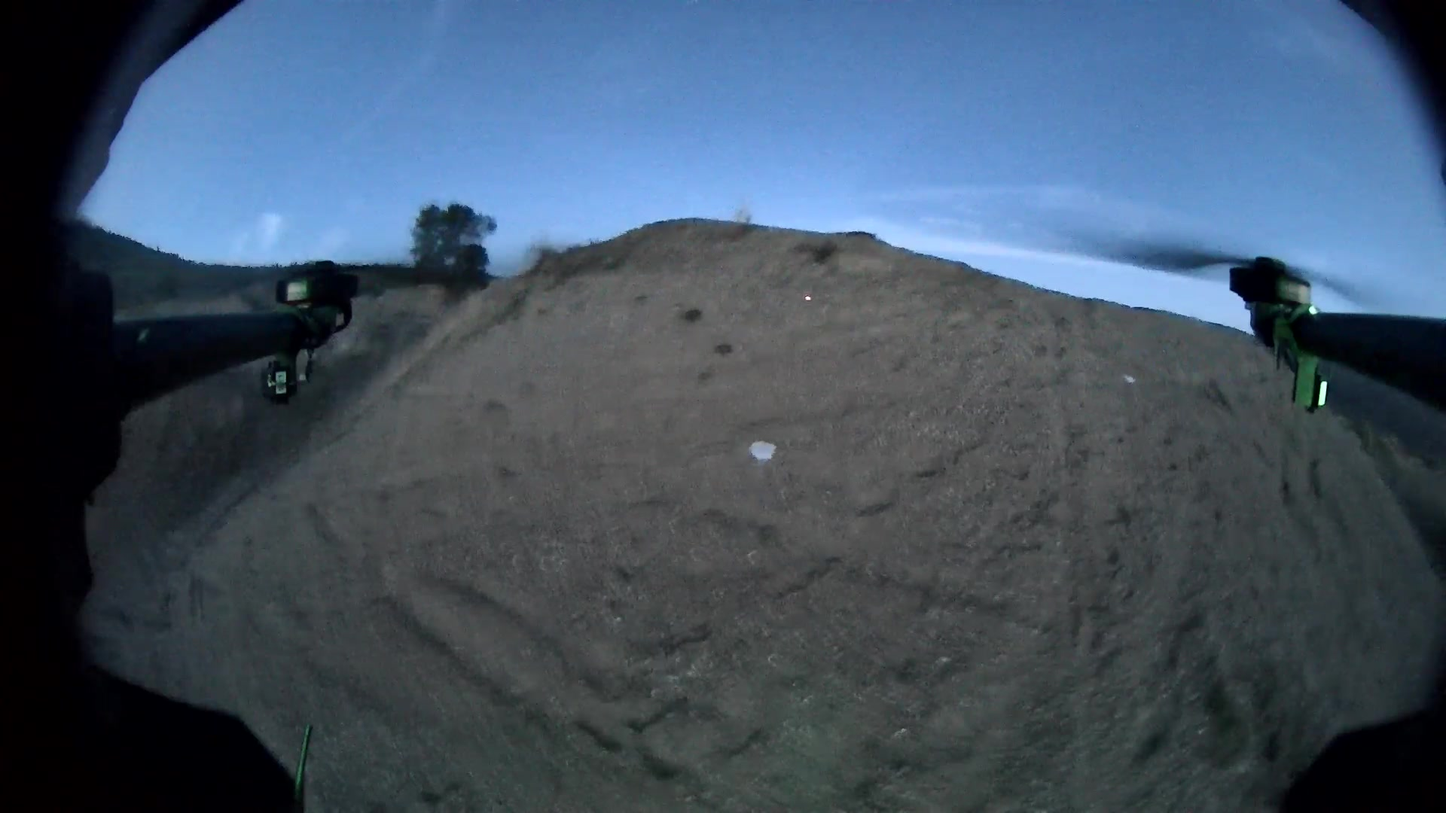Target: (749, 440, 776, 462)
